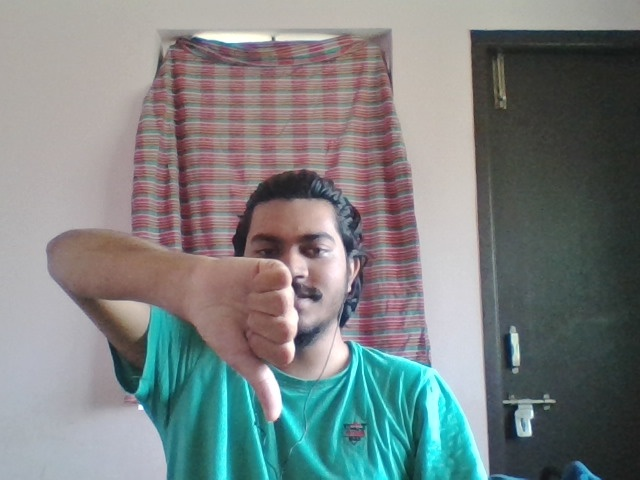ThumbsDown: (182, 256, 298, 422)
